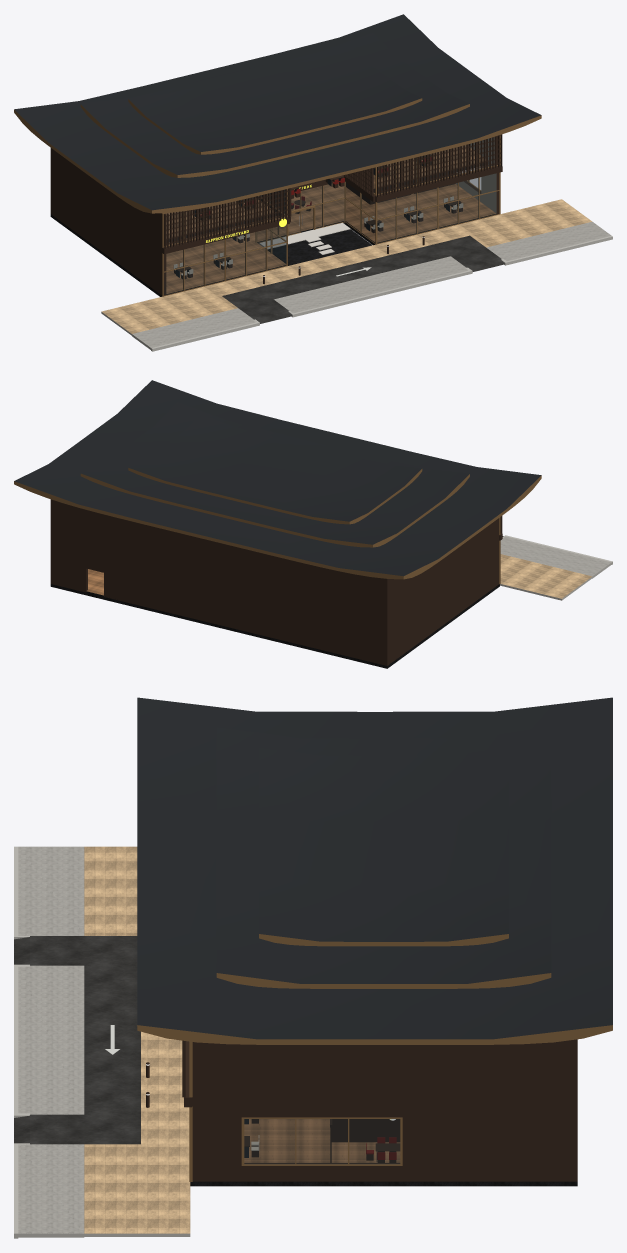
The model's file is saffron_courtyard.glb.
3 renders of one model, top to bottom at view 1: azimuth 30°, elevation 25°; view 2: azimuth 150°, elevation 25°; view 3: azimuth 270°, elevation 25°, orthographic. The views are drawn at different scales.
Visible parts, largest first — view 1: P09_LOD2_BUILDING_EXTERIOR_RoofPlates, P09_LOD0_BUILDING_EXTERIOR_Shell, P09_LOD0_BUILDING_INTERIOR_GroundSlab, P09_OPTIONAL_FORECOURT_Paving, P09_SIDEWALK_FRONTAGE_Main, P09_LOD0_GLASS_SYSTEM_GFGlass, P09_LOD0_FACADE_DETAILS_Timber, P09_OPTIONAL_FORECOURT_DropOff, P09_LOD2_FACADE_DETAILS_Timber, P09_LOD0_BUILDING_EXTERIOR_RoofPlates, P09_LOD0_GLASS_SYSTEM_GFFrame, P09_LOD0_BUILDING_INTERIOR_Slabs (+7 smaller); view 2: P09_LOD2_BUILDING_EXTERIOR_RoofPlates, P09_LOD0_BUILDING_EXTERIOR_Shell, P09_LOD0_BUILDING_EXTERIOR_RoofPlates, P09_OPTIONAL_FORECOURT_Paving, P09_SIDEWALK_FRONTAGE_Main, P09_LOD0_BUILDING_INTERIOR_GroundSlab, P09_LOD1_BUILDING_EXTERIOR_RoofPlates; view 3: P09_LOD2_BUILDING_EXTERIOR_RoofPlates, P09_LOD0_BUILDING_EXTERIOR_Shell, P09_SIDEWALK_FRONTAGE_Main, P09_OPTIONAL_FORECOURT_Paving, P09_OPTIONAL_FORECOURT_DropOff, P09_LOD0_BUILDING_INTERIOR_GroundSlab, P09_LOD0_GLASS_SYSTEM_SideGlass, P09_LOD0_BUILDING_EXTERIOR_RoofPlates, P09_DRIVEWAY_Crossing, P09_LOD1_BUILDING_EXTERIOR_RoofPlates, P09_LOD2_BUILDING_INTERIOR_Screens, P09_LOD0_GLASS_SYSTEM_SideFrame.
Boxes of the visible parts, x1=… form: P09_LOD2_BUILDING_EXTERIOR_RoofPlates: x1=14, y1=14, x2=541, y2=213; P09_LOD0_BUILDING_EXTERIOR_Shell: x1=50, y1=136, x2=502, y2=295; P09_LOD0_BUILDING_INTERIOR_GroundSlab: x1=50, y1=182, x2=496, y2=296; P09_OPTIONAL_FORECOURT_Paving: x1=101, y1=199, x2=591, y2=335; P09_SIDEWALK_FRONTAGE_Main: x1=132, y1=221, x2=612, y2=351; P09_LOD0_GLASS_SYSTEM_GFGlass: x1=166, y1=174, x2=495, y2=293; P09_LOD0_FACADE_DETAILS_Timber: x1=164, y1=134, x2=502, y2=248; P09_OPTIONAL_FORECOURT_DropOff: x1=222, y1=235, x2=485, y2=307; P09_LOD2_FACADE_DETAILS_Timber: x1=166, y1=134, x2=501, y2=248; P09_LOD0_BUILDING_EXTERIOR_RoofPlates: x1=14, y1=98, x2=541, y2=213; P09_LOD0_GLASS_SYSTEM_GFFrame: x1=163, y1=172, x2=500, y2=296; P09_LOD0_BUILDING_INTERIOR_Slabs: x1=166, y1=145, x2=488, y2=242; P09_LOD2_BUILDING_EXTERIOR_RoofPlates: x1=14, y1=380, x2=541, y2=578; P09_LOD0_BUILDING_EXTERIOR_Shell: x1=50, y1=500, x2=502, y2=665; P09_LOD0_BUILDING_EXTERIOR_RoofPlates: x1=14, y1=468, x2=541, y2=579; P09_OPTIONAL_FORECOURT_Paving: x1=500, y1=554, x2=592, y2=600; P09_SIDEWALK_FRONTAGE_Main: x1=500, y1=536, x2=612, y2=578; P09_LOD0_BUILDING_INTERIOR_GroundSlab: x1=50, y1=569, x2=499, y2=668; P09_LOD1_BUILDING_EXTERIOR_RoofPlates: x1=14, y1=468, x2=541, y2=578; P09_LOD2_BUILDING_EXTERIOR_RoofPlates: x1=137, y1=697, x2=612, y2=1044; P09_LOD0_BUILDING_EXTERIOR_Shell: x1=184, y1=1039, x2=577, y2=1181; P09_SIDEWALK_FRONTAGE_Main: x1=14, y1=846, x2=84, y2=1238; P09_OPTIONAL_FORECOURT_Paving: x1=84, y1=846, x2=190, y2=1236; P09_OPTIONAL_FORECOURT_DropOff: x1=84, y1=936, x2=140, y2=1144; P09_LOD0_BUILDING_INTERIOR_GroundSlab: x1=190, y1=1119, x2=577, y2=1186; P09_LOD0_GLASS_SYSTEM_SideGlass: x1=245, y1=1119, x2=399, y2=1163; P09_LOD0_BUILDING_EXTERIOR_RoofPlates: x1=137, y1=934, x2=612, y2=1044; P09_DRIVEWAY_Crossing: x1=14, y1=934, x2=84, y2=1144; P09_LOD1_BUILDING_EXTERIOR_RoofPlates: x1=139, y1=934, x2=612, y2=1044; P09_LOD2_BUILDING_INTERIOR_Screens: x1=330, y1=1119, x2=400, y2=1162; P09_LOD0_GLASS_SYSTEM_SideFrame: x1=242, y1=1117, x2=402, y2=1165.
Size of what is drawn, in the model's own units: 52 by 12.78 by 34.
30 materials, 8 textured.
